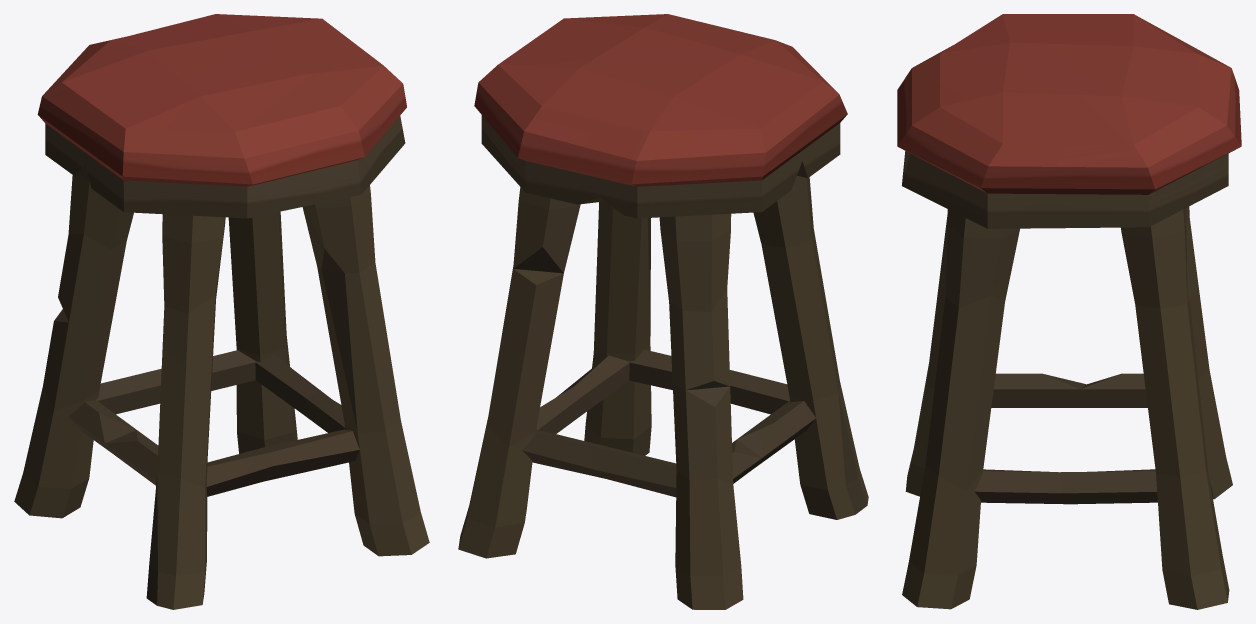
Rendered from stool.glb.
3 renders of one model, left to right at view 1: azimuth 30°, elevation 25°; view 2: azimuth 150°, elevation 25°; view 3: azimuth 270°, elevation 25°, orthographic. The views are drawn at different scales.
Visible parts, largest first — view 1: SM_Prop_Stool_01; view 2: SM_Prop_Stool_01; view 3: SM_Prop_Stool_01.
Part boxes in pixels (box(x1,y1,x2,y2)): SM_Prop_Stool_01: box(14, 14, 429, 609); SM_Prop_Stool_01: box(458, 14, 868, 609); SM_Prop_Stool_01: box(897, 14, 1241, 609).
Size of the model in its own units: 42.01 by 64.6 by 42.35.
Materials: 1 (1 with a texture image).
